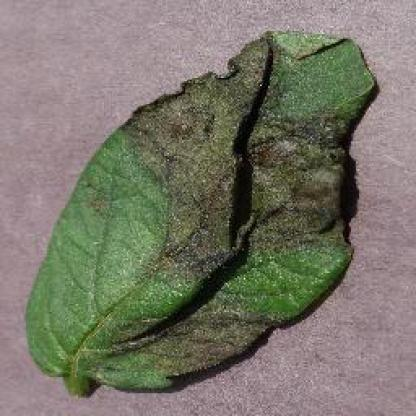bad leaf: (135, 31, 387, 372), (171, 26, 386, 247), (33, 138, 213, 399), (152, 35, 268, 379)
